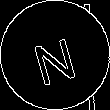N_N: (29, 25, 81, 85)
